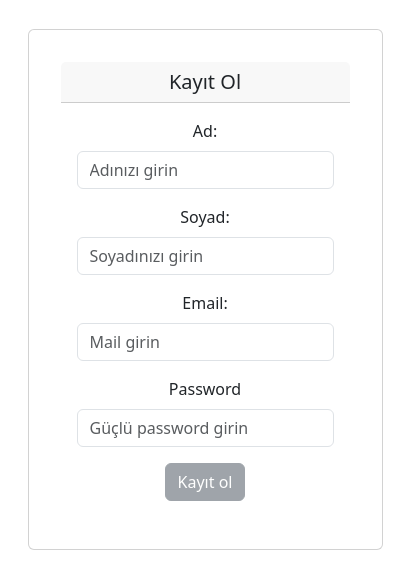
Hata mesajları doğru görünüyor mu › Ad için 3 karakterden az olduğunda hata mesajı çıkıyor mu
The width and height of the screenshot is (412, 579).
In the field with test id "input-ad": (206, 170) [77,151,334,189], type "fa"
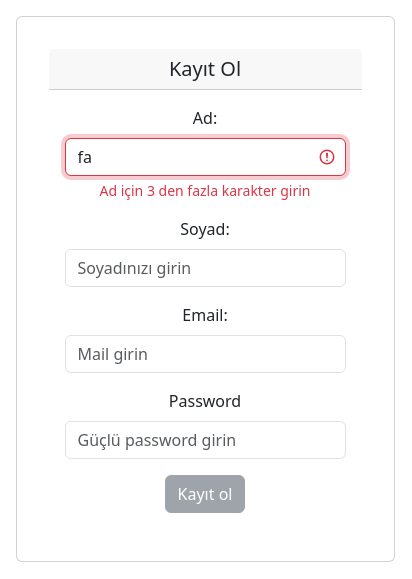
Expected: the text "Ad için 3 den fazla karakter girin" is shown, [100,181,310,200]
